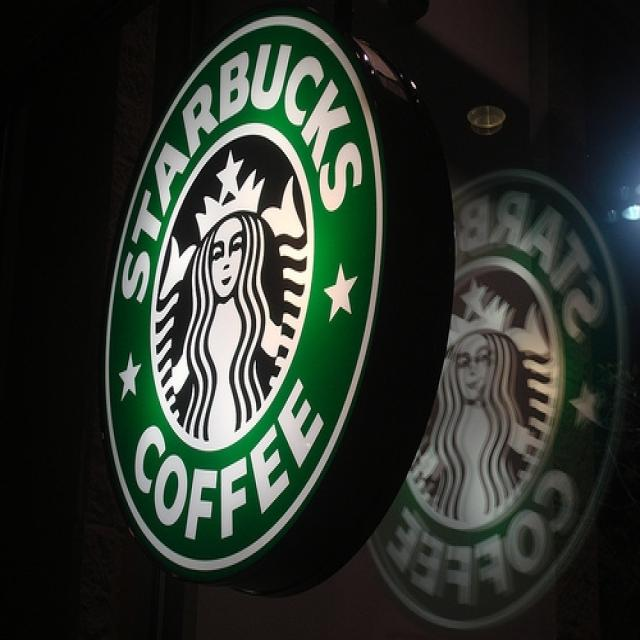starbucks: (103, 13, 385, 571)
